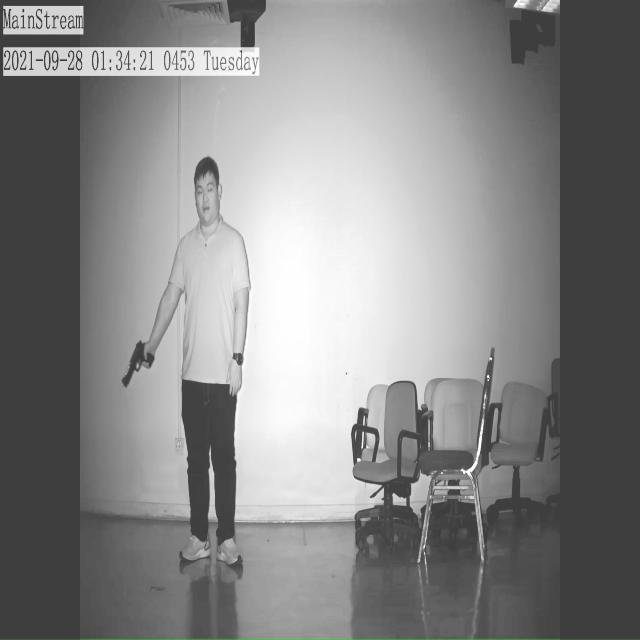Gun: (114, 333, 163, 397)
